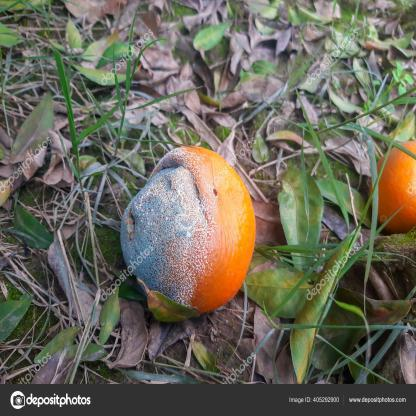orange_rotten: (116, 140, 258, 312)
